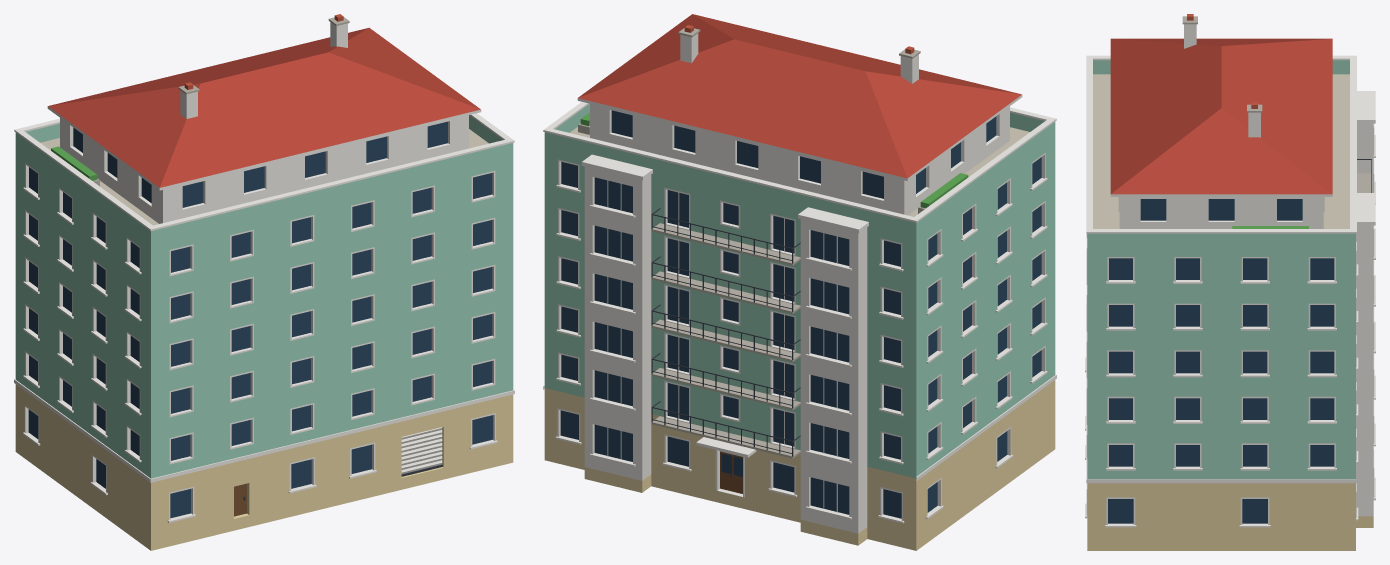
The model's file is apartment_d.glb.
3 views of the same model, side by side, from view 1: azimuth 30°, elevation 25°; view 2: azimuth 150°, elevation 25°; view 3: azimuth 270°, elevation 25° (orthographic). The views are drawn at different scales.
Parts seen in each view (by area): view 1: Building, Building_Glass; view 2: Building, Building_Glass; view 3: Building, Building_Glass.
Part boxes in pixels (x1,y1,x2,y2): Building: (14,14,514,550); Building_Glass: (28,121,492,518); Building: (543,14,1056,550); Building_Glass: (560,110,1041,518); Building: (1085,14,1375,550); Building_Glass: (1108,199,1334,523).
Bounding box in the file's own units: 26.08 × 27.7 × 18.08.
